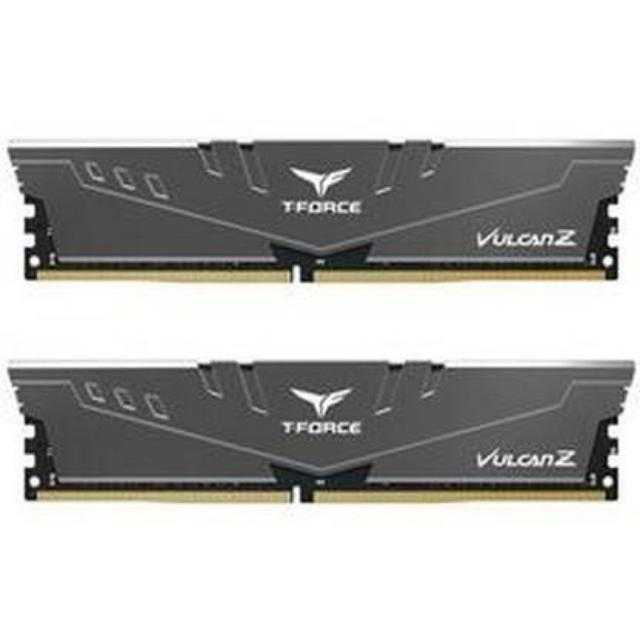RAM: (7, 131, 638, 294), (6, 360, 634, 515)
